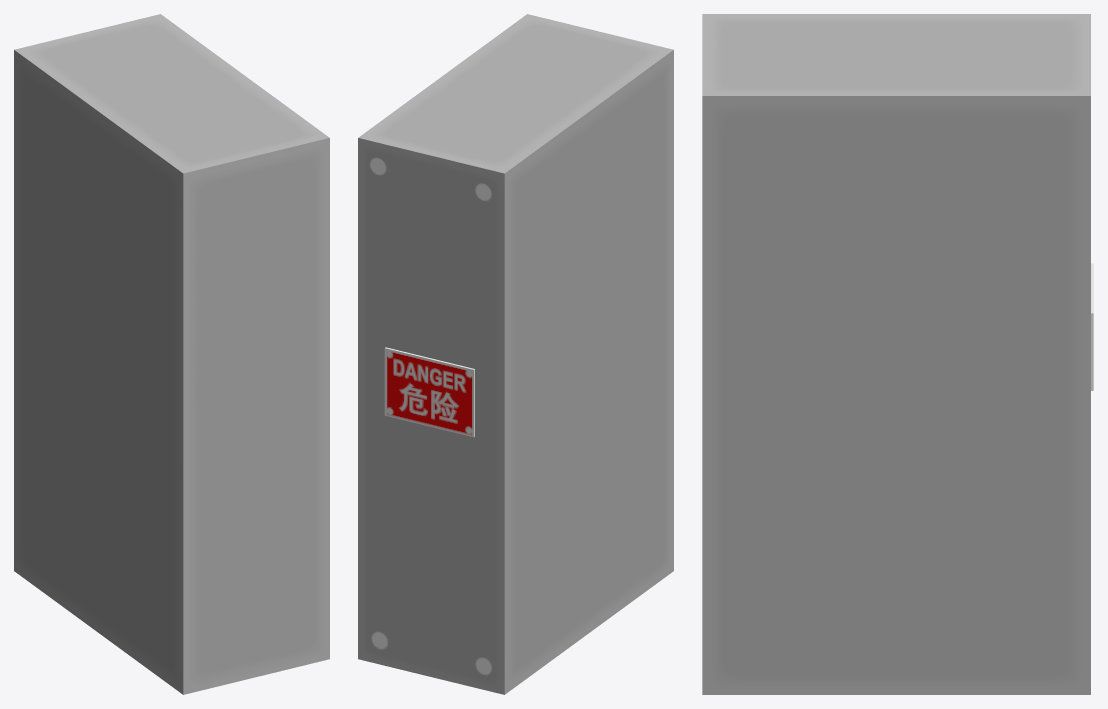
Rendered from Pfb_ElectricControlBox__5.fbx.
The picture shows the model from 3 angles, left to right: view 1: azimuth 30°, elevation 25°; view 2: azimuth 150°, elevation 25°; view 3: azimuth 270°, elevation 25°; orthographic projection. The views are drawn at different scales.
Parts seen in each view (by area): view 1: MAT_ElectricControlBox; view 2: MAT_ElectricControlBox; view 3: MAT_ElectricControlBox.
Part boxes in pixels (left/top/right/bottom): MAT_ElectricControlBox: left=14, top=14, right=329, bottom=694; MAT_ElectricControlBox: left=358, top=14, right=673, bottom=694; MAT_ElectricControlBox: left=702, top=14, right=1093, bottom=694.
Bounding box in the file's own units: 0.5 × 1.7 × 1.01.
1 material, 1 textured.
